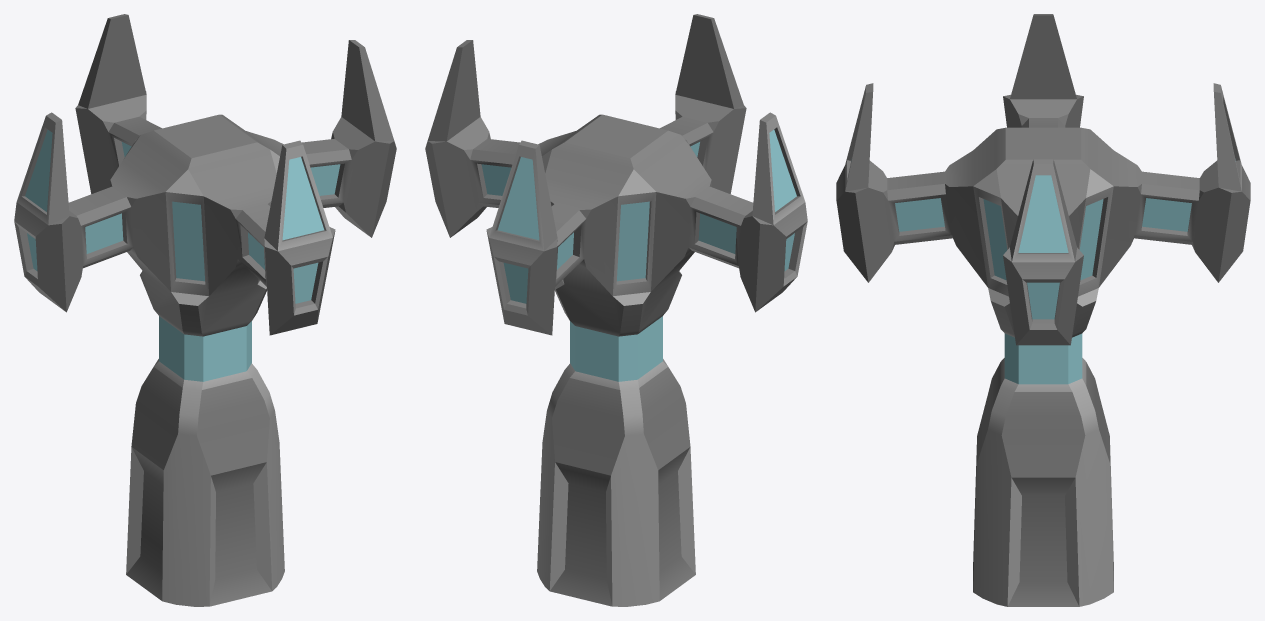
Rendered from Tower Control.fbx.
3 views of the same model, side by side, from view 1: azimuth 30°, elevation 25°; view 2: azimuth 150°, elevation 25°; view 3: azimuth 270°, elevation 25° (orthographic).
Visible parts, largest first — view 1: Control_piller; view 2: Control_piller; view 3: Control_piller.
Boxes of the visible parts, x1,y1,x2,y2 form: Control_piller: (14,14,396,606); Control_piller: (425,14,807,606); Control_piller: (836,14,1250,606).
Bounding box in the file's own units: 45.22 × 59.19 × 45.22.
